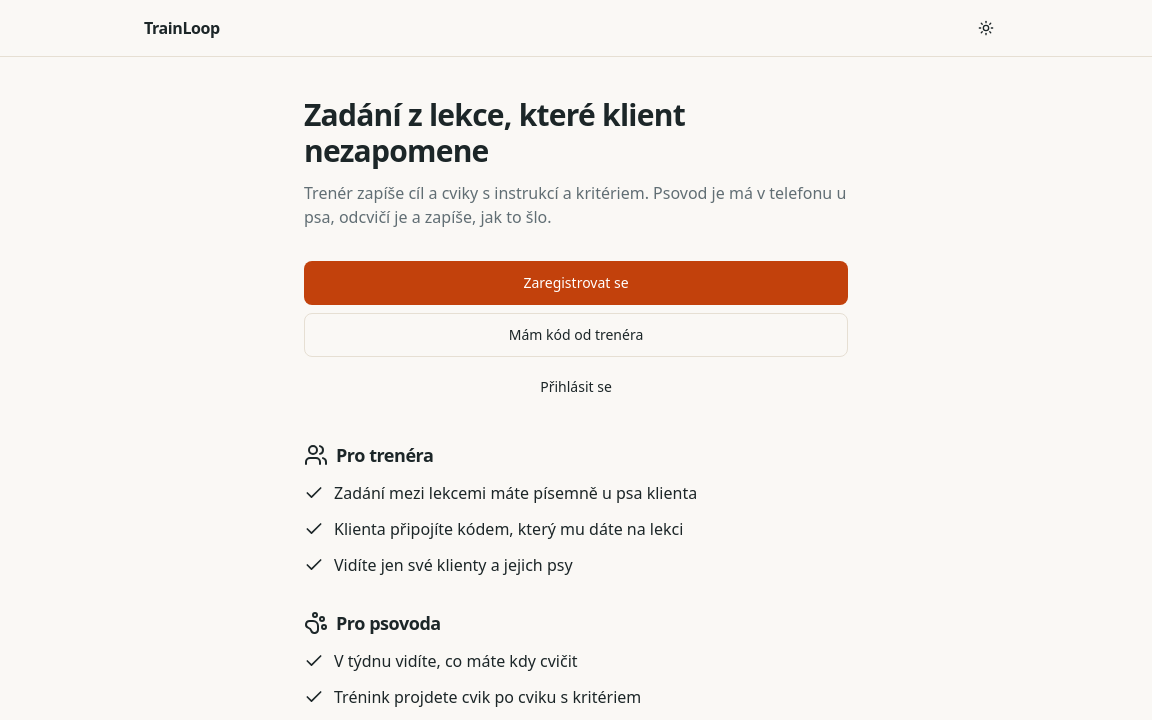
Test: login and logout › opens an accessible modal from the landing page and closes it with Escape
Click the link "Přihlásit se": [576, 386] box [540,377,612,396]
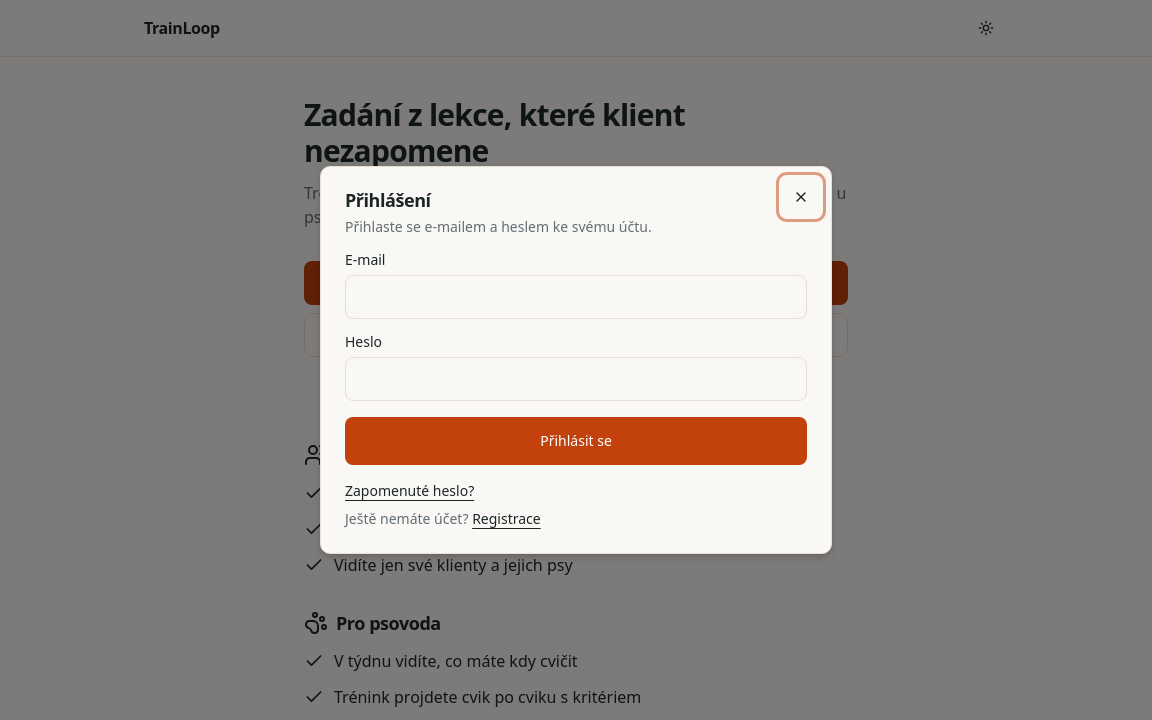
Now the field labelled "E-mail" is shown, box [345,275,807,319]
Now the password field labelled "Heslo" is shown, box [345,357,807,401]
Press Escape
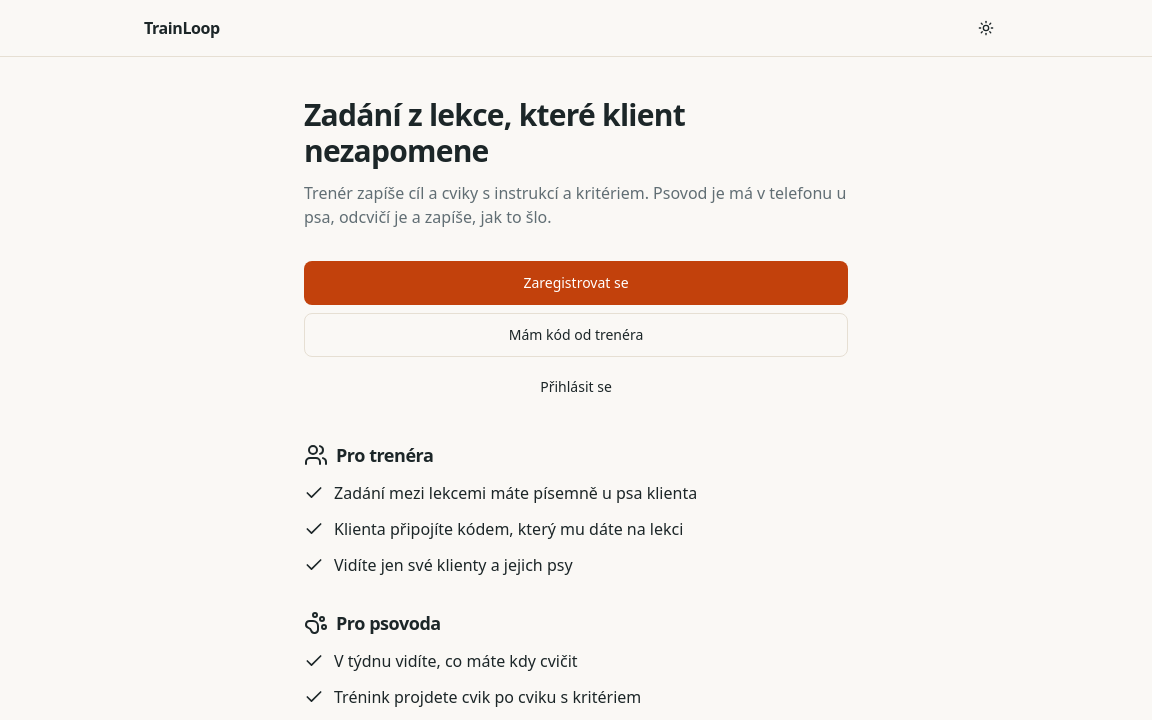
Now the dialog is gone
